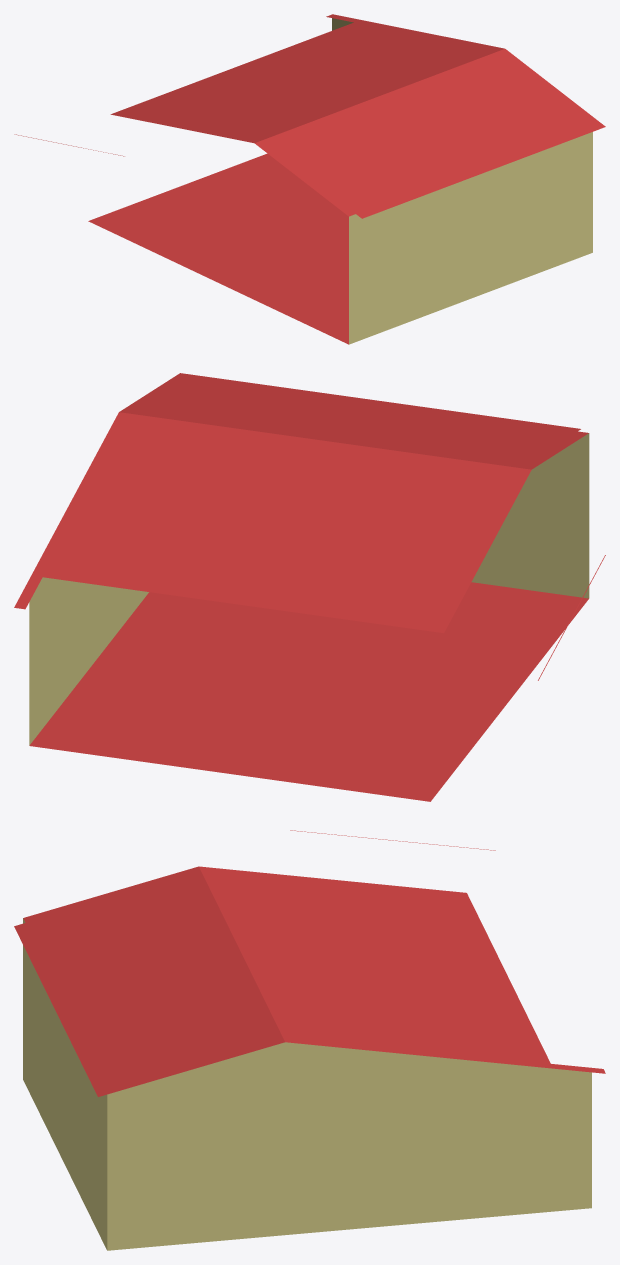
The picture shows the model from 3 angles, top to bottom: view 1: azimuth 30°, elevation 25°; view 2: azimuth 150°, elevation 25°; view 3: azimuth 270°, elevation 25°; orthographic projection. The views are drawn at different scales.
Size of the model in its own units: 26.9 by 25.11 by 9.27.
